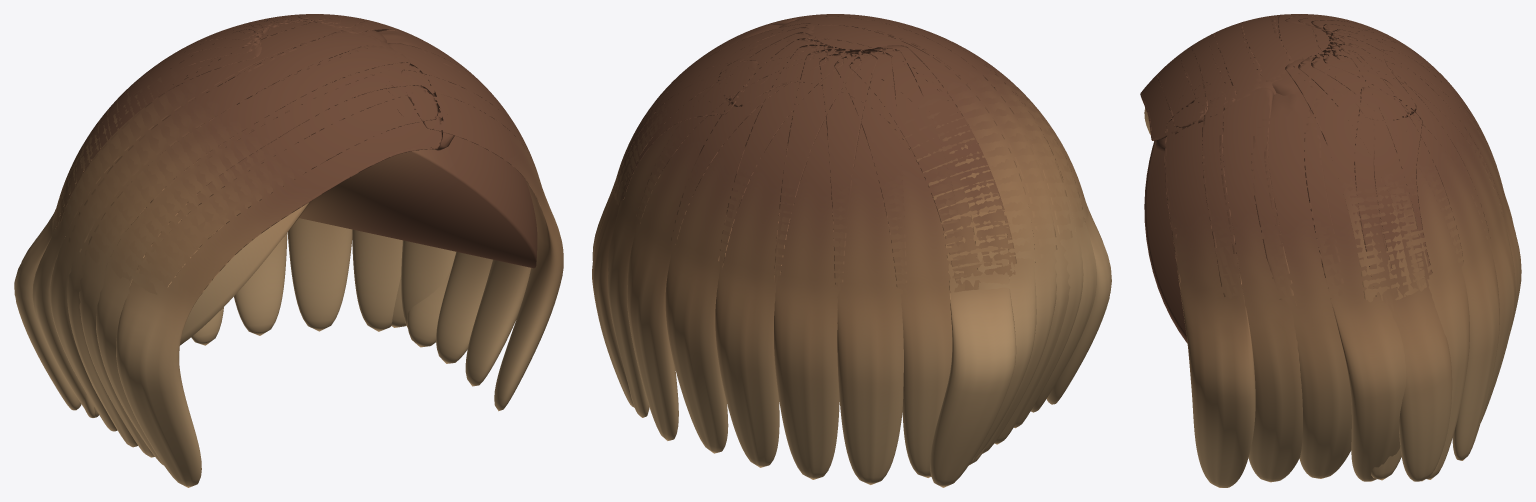
File: Ombre-7c408895751a253-hair.glb
3 renders of one model, left to right at view 1: azimuth 30°, elevation 25°; view 2: azimuth 150°, elevation 25°; view 3: azimuth 270°, elevation 25°, orthographic. The views are drawn at different scales.
Parts seen in each view (by area): view 1: 226 hair / Hair / sculpted 0.001, 226 hair / Hair / sculpted 1.001, 226 hair / Hair / sculpted 2.001, 226 hair / Hair / sculpted 1.002; view 2: 226 hair / Hair / sculpted 0.001, 226 hair / Hair / sculpted 2.001, 226 hair / Hair / sculpted 1.001; view 3: 226 hair / Hair / sculpted 1.001, 226 hair / Hair / sculpted 2.001, 226 hair / Hair / sculpted 0.001, 226 hair / Hair / sculpted 1.002.
Part boxes in pixels (x1,y1,x2,y2): 226 hair / Hair / sculpted 0.001: (14,14,502,487); 226 hair / Hair / sculpted 1.001: (50,14,563,465); 226 hair / Hair / sculpted 2.001: (32,14,536,457); 226 hair / Hair / sculpted 1.002: (180,136,537,345); 226 hair / Hair / sculpted 0.001: (627,14,1111,487); 226 hair / Hair / sculpted 2.001: (592,14,1084,477); 226 hair / Hair / sculpted 1.001: (592,14,1096,484); 226 hair / Hair / sculpted 1.001: (1157,14,1515,487); 226 hair / Hair / sculpted 2.001: (1180,14,1521,482); 226 hair / Hair / sculpted 0.001: (1140,14,1512,478); 226 hair / Hair / sculpted 1.002: (1144,107,1187,343).
Size of the model in its own units: 1 by 0.8172 by 0.7544.
4 materials, 4 textured.
